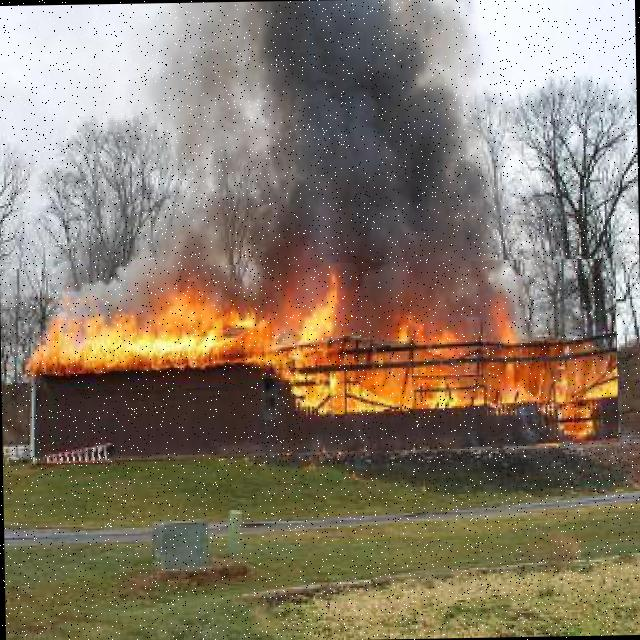fire: (0, 257, 618, 457)
